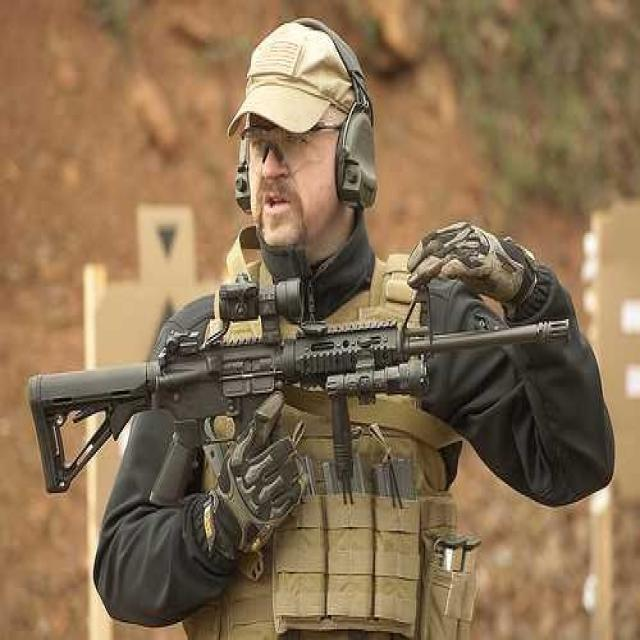heavyweapon: (14, 248, 588, 523)
